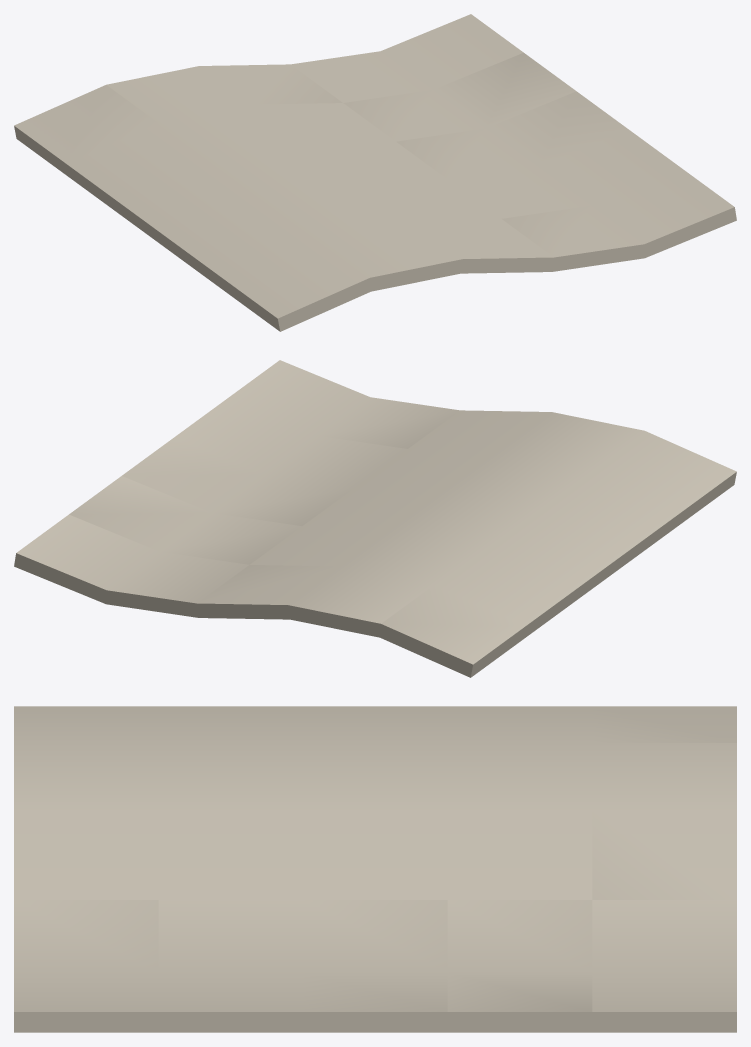
The model's file is cloth.glb.
3 renders of one model, top to bottom at view 1: azimuth 30°, elevation 25°; view 2: azimuth 150°, elevation 25°; view 3: azimuth 270°, elevation 25°, orthographic. The views are drawn at different scales.
Visible parts, largest first — view 1: cloth; view 2: cloth; view 3: cloth.
Boxes of the visible parts, bbox=[...] form: cloth: bbox=[14, 14, 736, 331]; cloth: bbox=[14, 360, 736, 677]; cloth: bbox=[14, 706, 736, 1032].
Size of the model in its own units: 0.2714 by 0.0269 by 0.27.
